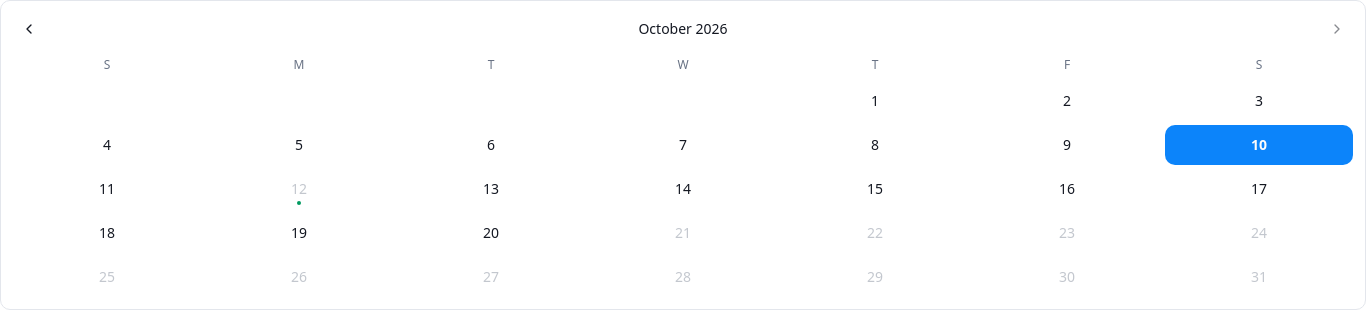
Test: DayPicker (bulk attendance) › moves back to an earlier month when the episode started there
Click the button named "Previous month" at (29, 29), box top-left (13, 13), bottom-right (45, 45)
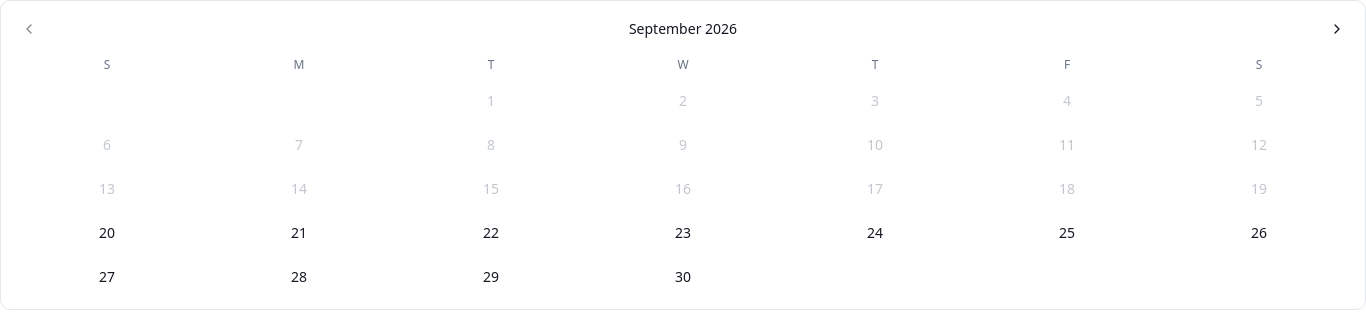
Expected: the button "20" is enabled, top-left (13, 213), bottom-right (201, 253)
Result: the text "September 2026" is shown at top-left (629, 19), bottom-right (737, 39)
Result: the button "19" is disabled at top-left (1165, 169), bottom-right (1353, 209)
